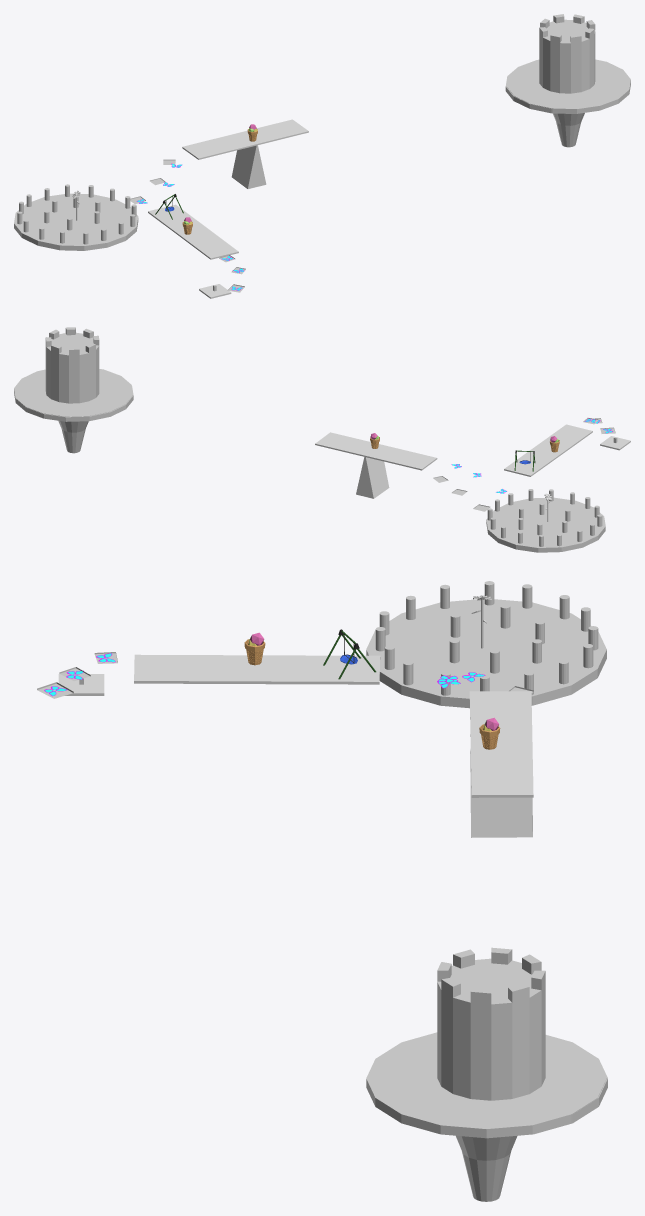
The model's file is Demo_level_heaven_sword.gltf.
3 renders of one model, top to bottom at view 1: azimuth 30°, elevation 25°; view 2: azimuth 150°, elevation 25°; view 3: azimuth 270°, elevation 25°, orthographic. The views are drawn at different scales.
Visible parts, largest first — view 1: Cylinder.024, Cylinder, Cylinder.025, Seesaw_Bridge, Bridge, base, Colision_arena; view 2: Cylinder, Cylinder.025, Cylinder.024, Seesaw_Bridge, Bridge, base, Colision_arena.001; view 3: Cylinder.024, Cylinder, Cylinder.025, Bridge, Seesaw_Bridge, base.
Part boxes in pixels (<box>): Cylinder.024: <box>506,59,630,147</box>; Cylinder: <box>14,193,138,246</box>; Cylinder.025: <box>539,14,595,93</box>; Seesaw_Bridge: <box>182,119,308,159</box>; Bridge: <box>148,204,238,259</box>; base: <box>231,145,266,188</box>; Colision_arena: <box>14,224,136,250</box>; Cylinder: <box>486,497,605,552</box>; Cylinder.025: <box>45,327,99,403</box>; Cylinder.024: <box>14,369,133,453</box>; Seesaw_Bridge: <box>315,432,437,470</box>; Bridge: <box>504,424,592,476</box>; base: <box>356,457,389,498</box>; Colision_arena.001: <box>15,386,133,421</box>; Cylinder.024: <box>366,1032,606,1201</box>; Cylinder: <box>366,599,606,707</box>; Cylinder.025: <box>437,947,545,1100</box>; Bridge: <box>134,654,380,684</box>; Seesaw_Bridge: <box>469,691,533,797</box>; base: <box>470,749,532,837</box>.
Size of what is drawn, in the model's own units: 264 by 49.41 by 113.
